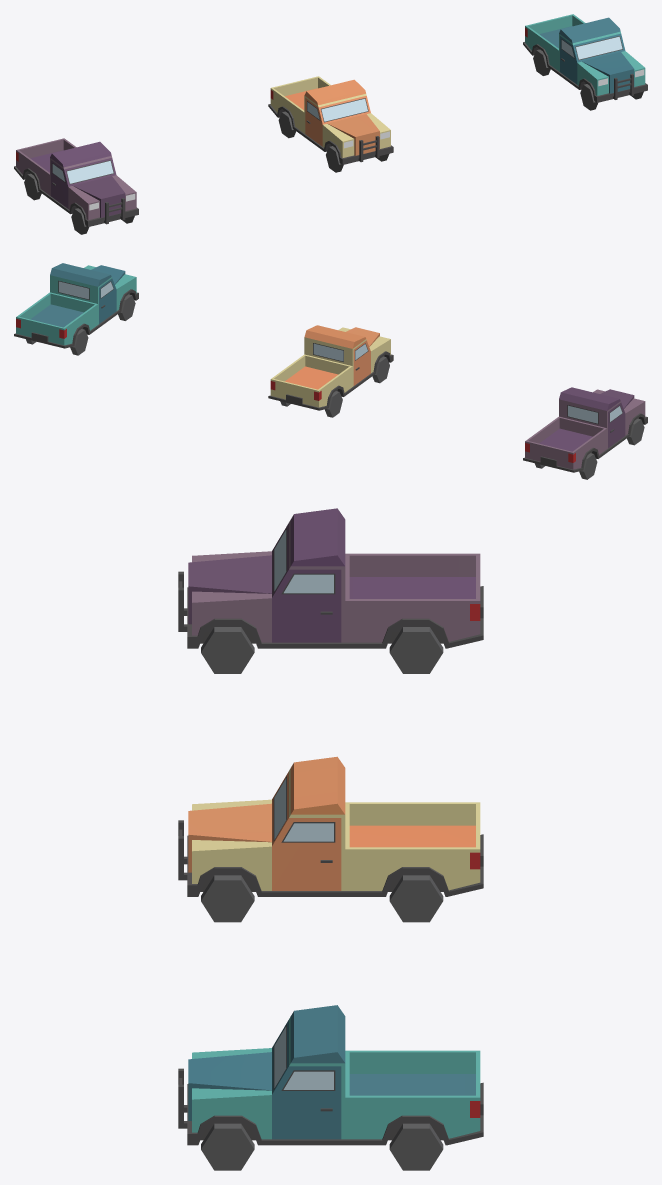
File: city_pickups.glb
3 views of the same model, one above another, from view 1: azimuth 30°, elevation 25°; view 2: azimuth 150°, elevation 25°; view 3: azimuth 270°, elevation 25° (orthographic). The views are drawn at different scales.
Parts seen in each view (by area): view 1: Pickup_3_Mat_0; view 2: Pickup_3_Mat_0; view 3: Pickup_3_Mat_0.
Part boxes in pixels (box(x1,y1,x2,y2)): Pickup_3_Mat_0: box(14, 14, 647, 234); Pickup_3_Mat_0: box(14, 263, 647, 479); Pickup_3_Mat_0: box(178, 508, 483, 1170).
Size of the model in its own units: 6.74 by 0.6734 by 1.59.
Materials: 1 (1 with a texture image).
